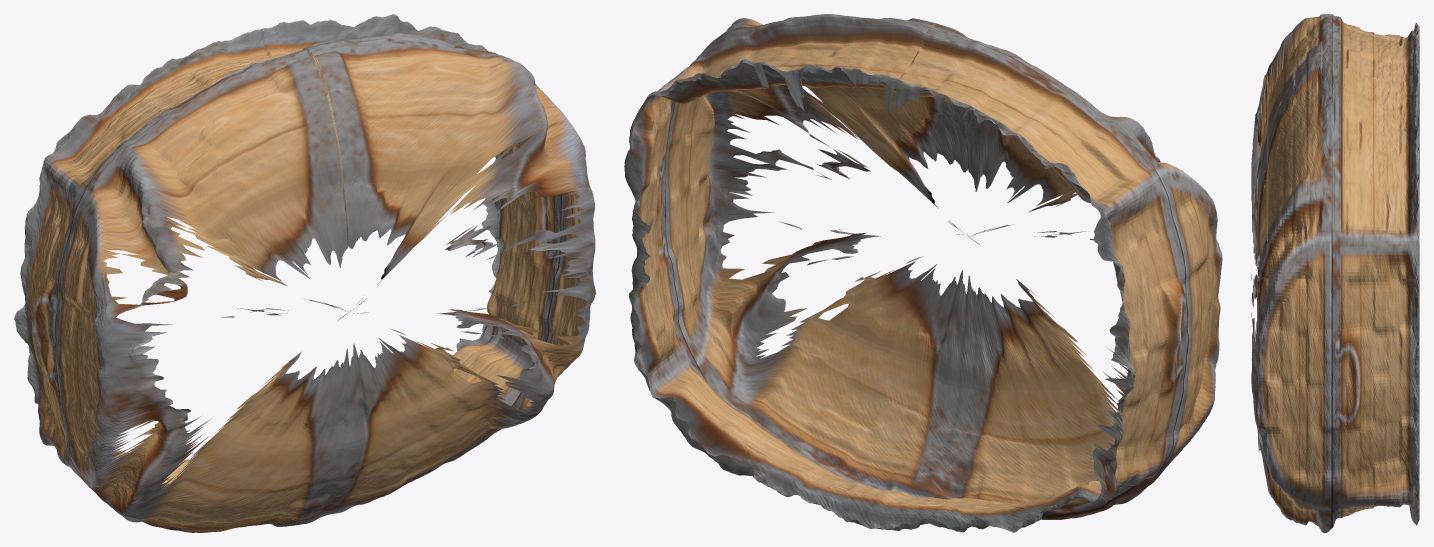
3 views of the same model, side by side, from view 1: azimuth 30°, elevation 25°; view 2: azimuth 150°, elevation 25°; view 3: azimuth 270°, elevation 25° (orthographic). The views are drawn at different scales.
Parts seen in each view (by area): view 1: geometry_0; view 2: geometry_0; view 3: geometry_0.
Boxes of the visible parts, x1=… form: geometry_0: x1=14, y1=14, x2=595, y2=532; geometry_0: x1=624, y1=14, x2=1222, y2=532; geometry_0: x1=1251, y1=14, x2=1419, y2=532.
Size of the model in its own units: 1.96 by 1.7 by 0.593.
Materials: 1 (1 with a texture image).
